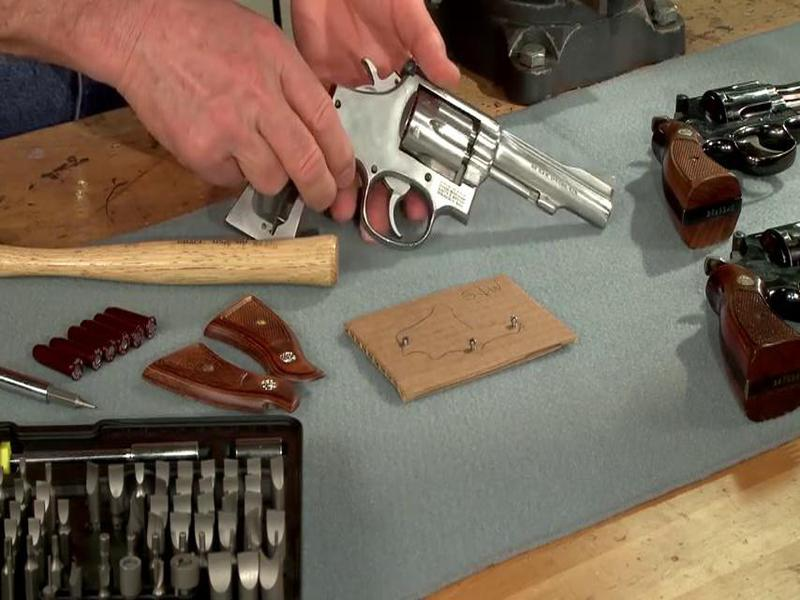Revolver: (208, 55, 597, 286)
